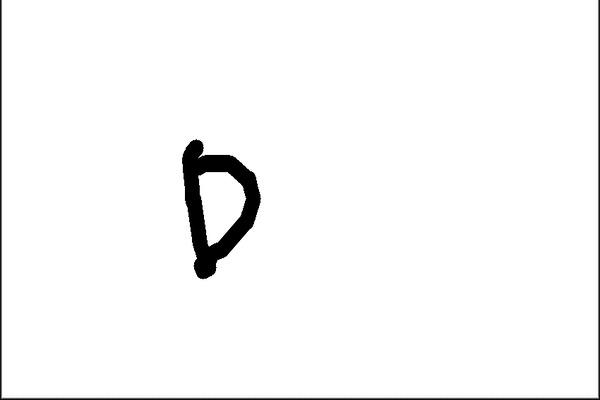D: (177, 134, 264, 282)
